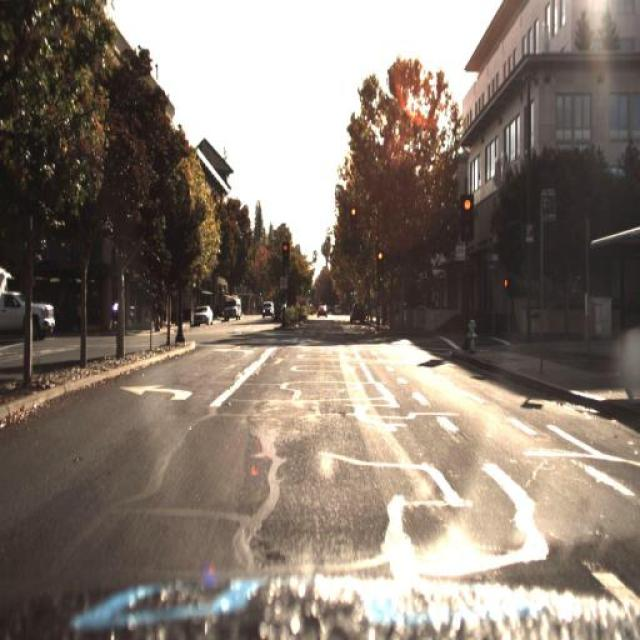car: (0, 260, 59, 344), (186, 302, 212, 324), (222, 294, 244, 320), (348, 296, 366, 326), (260, 299, 272, 321)
trafficLight-Green: (346, 202, 356, 226)
trafficLight-RedLeft: (462, 190, 477, 236), (280, 237, 290, 261)
trafficLight-YellowLeft: (374, 243, 384, 272)
